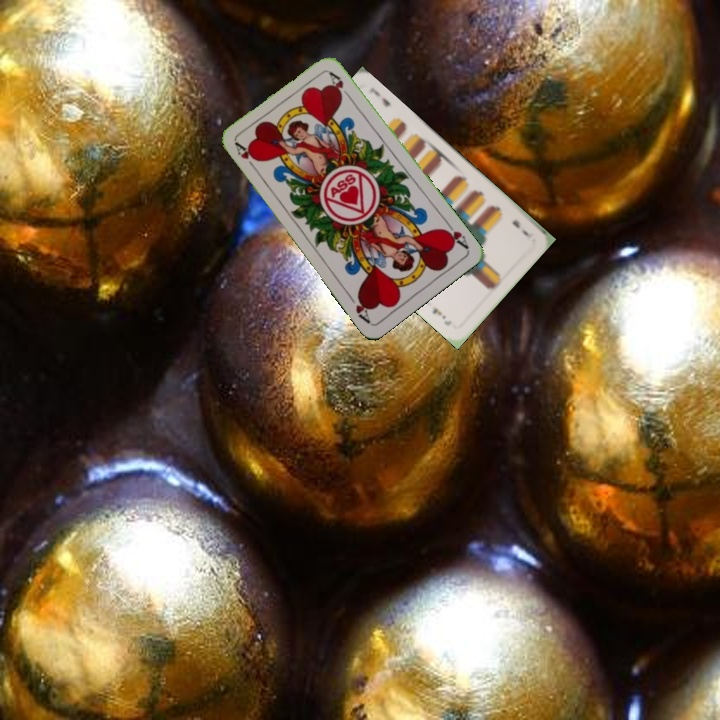E7: (508, 215, 536, 241)
HA: (439, 216, 471, 251), (231, 139, 261, 174)
